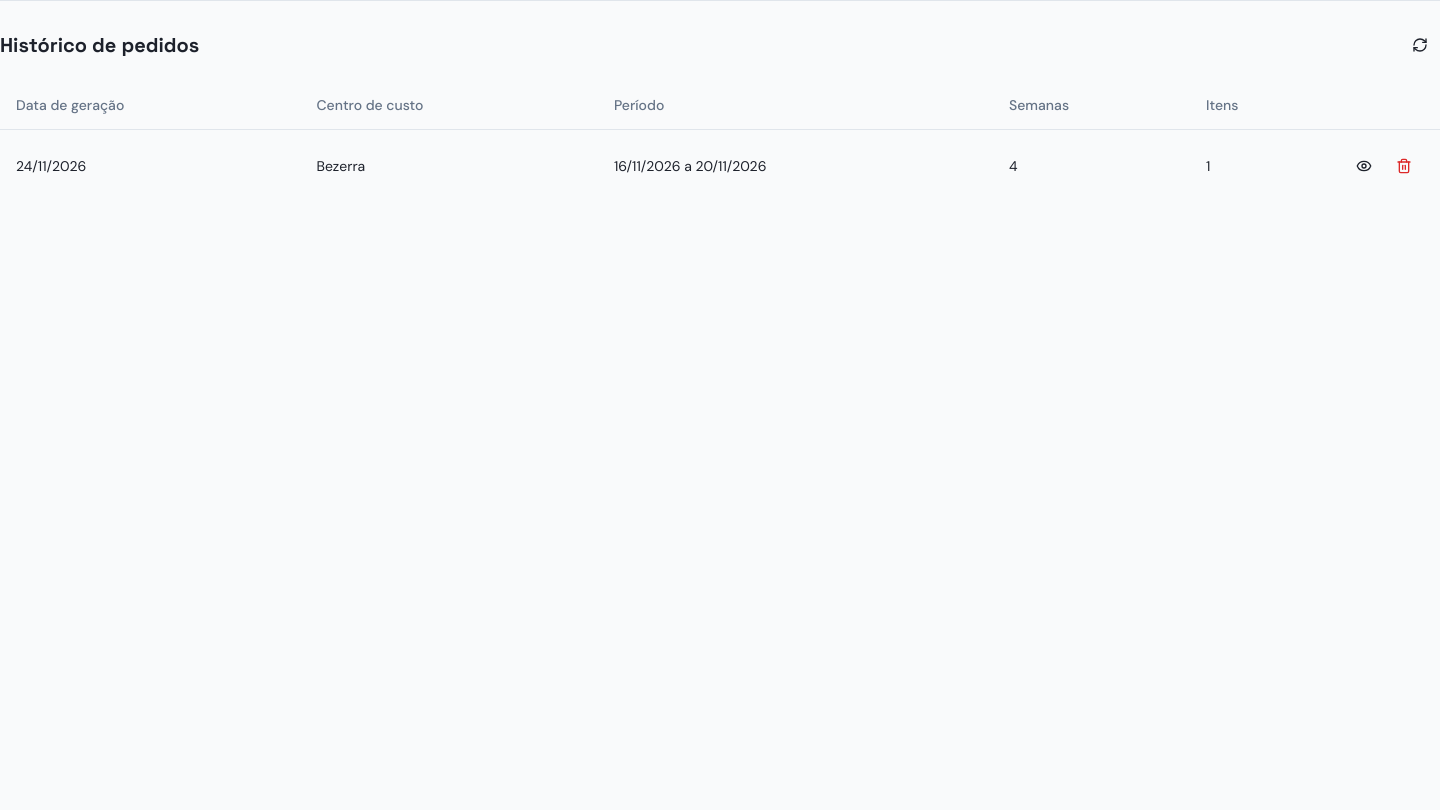
Test: exclusão de pedidos exclusiva para Master › Master só exclui após confirmar e o pedido desaparece da consulta
Click the button named "Excluir pedido o1" at (1404, 166), box [1384, 146, 1424, 186]
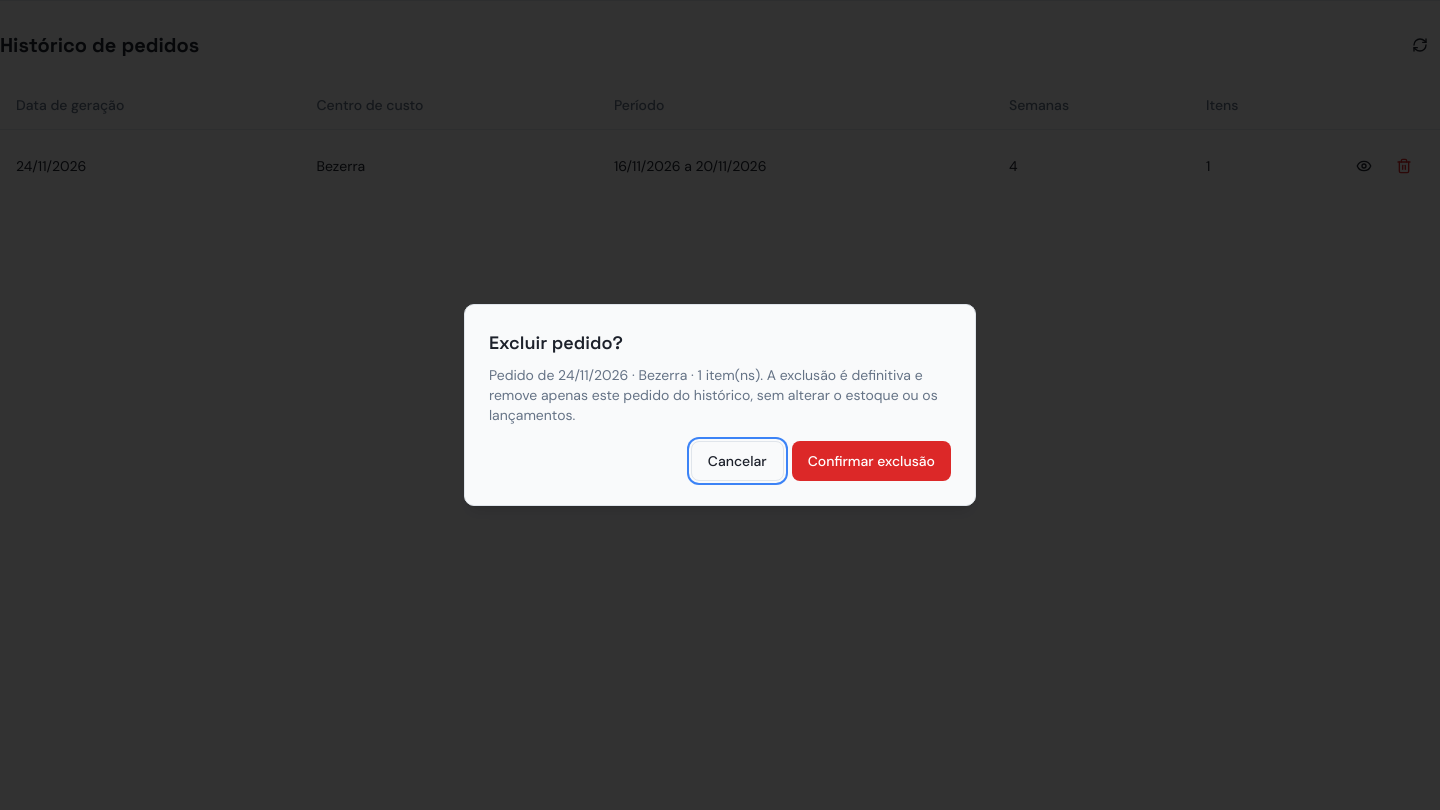
Click the button "Cancelar" at (737, 461), box [691, 441, 784, 481]
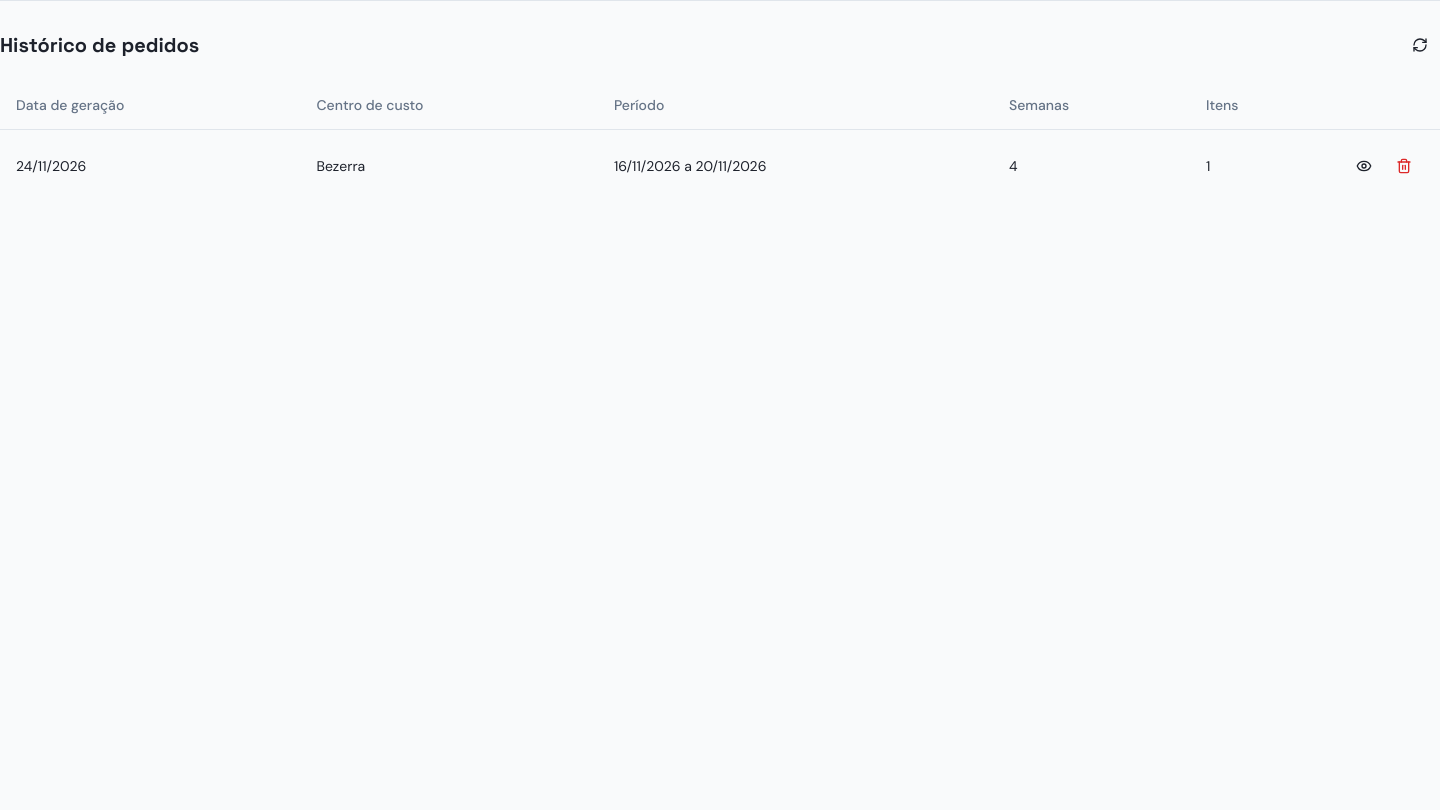
Click the button named "Excluir pedido o1" at (1404, 166), box [1384, 146, 1424, 186]
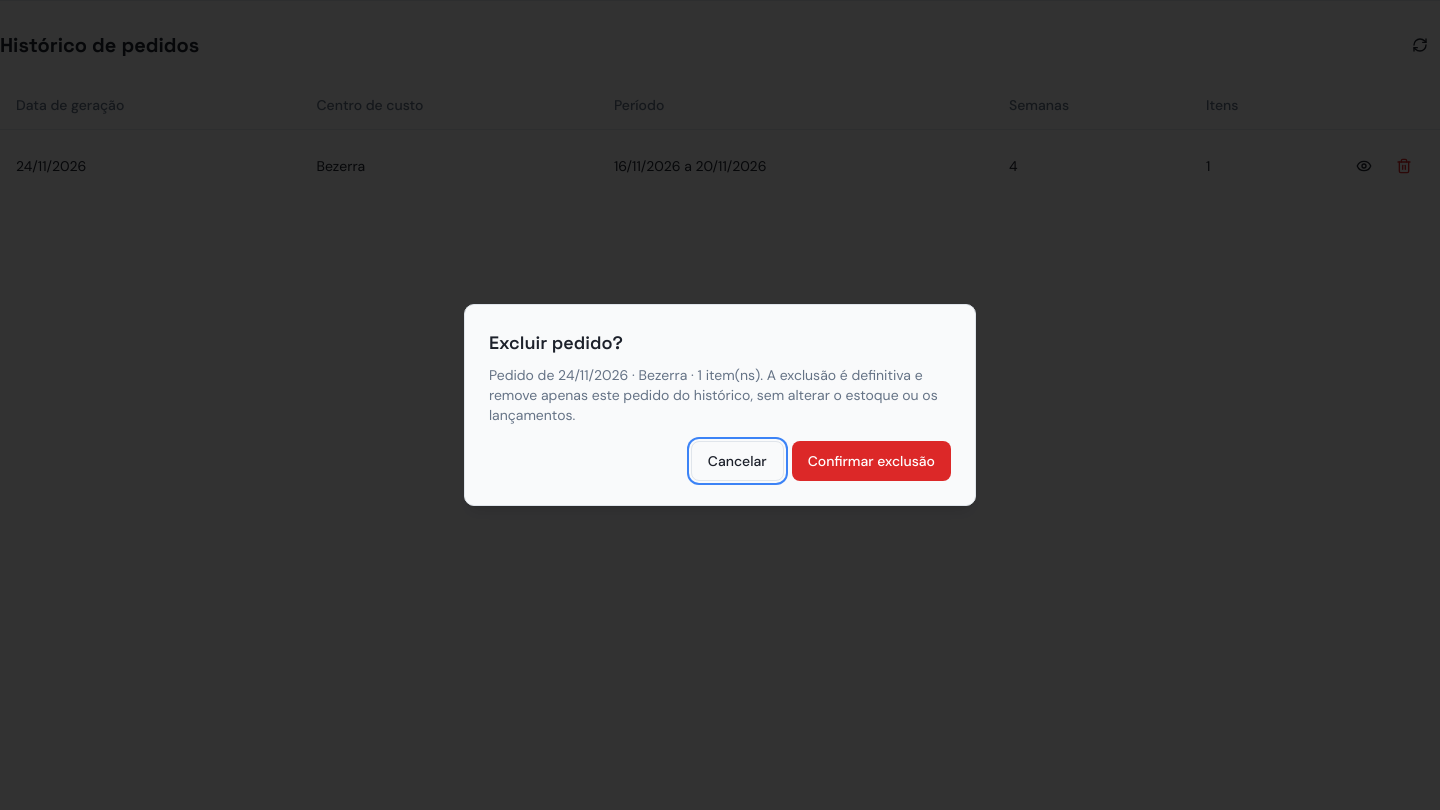
Click the button "Confirmar exclusão" at (871, 461), box [792, 441, 951, 481]
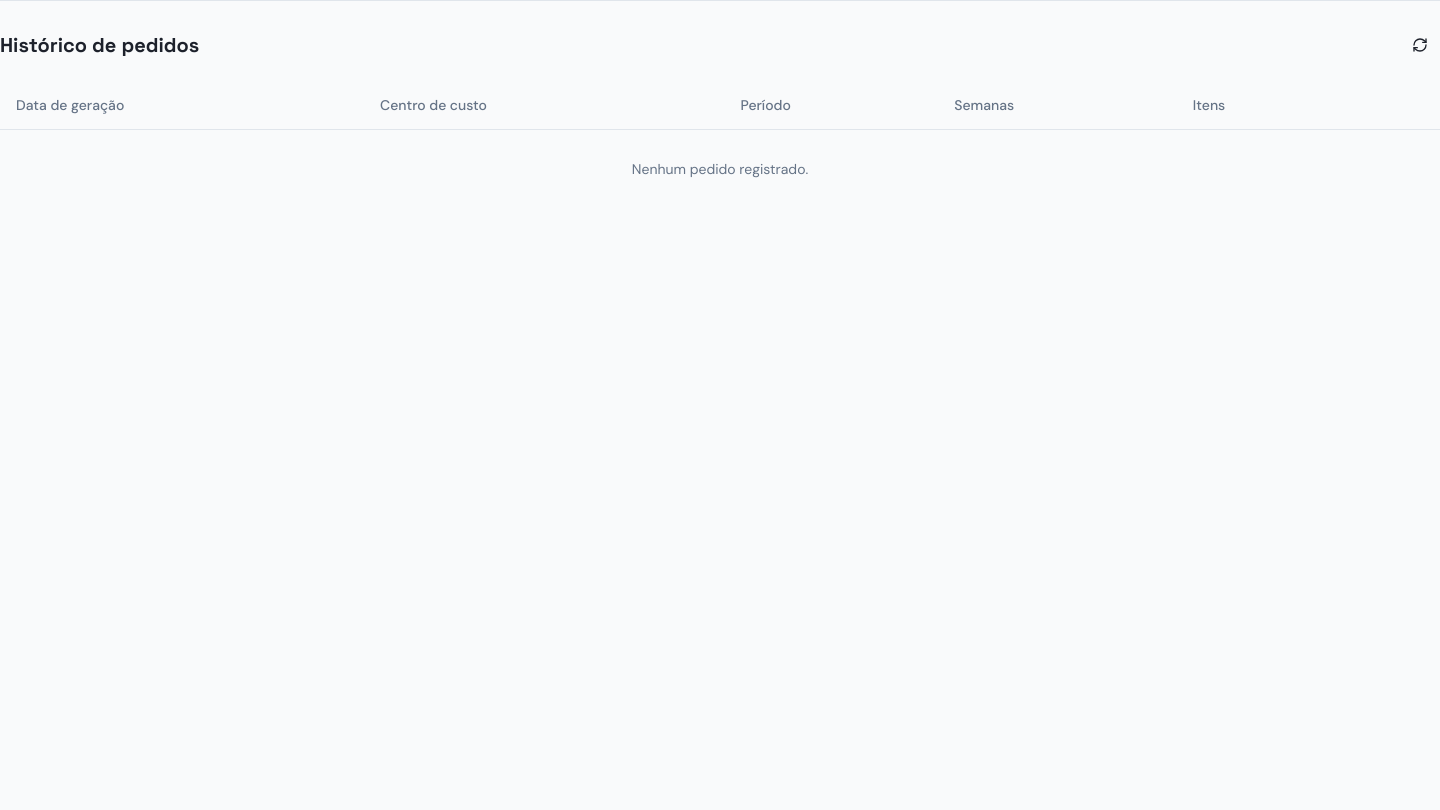
Expected: the text "Nenhum pedido registrado." is shown, [0, 129, 1439, 209]
